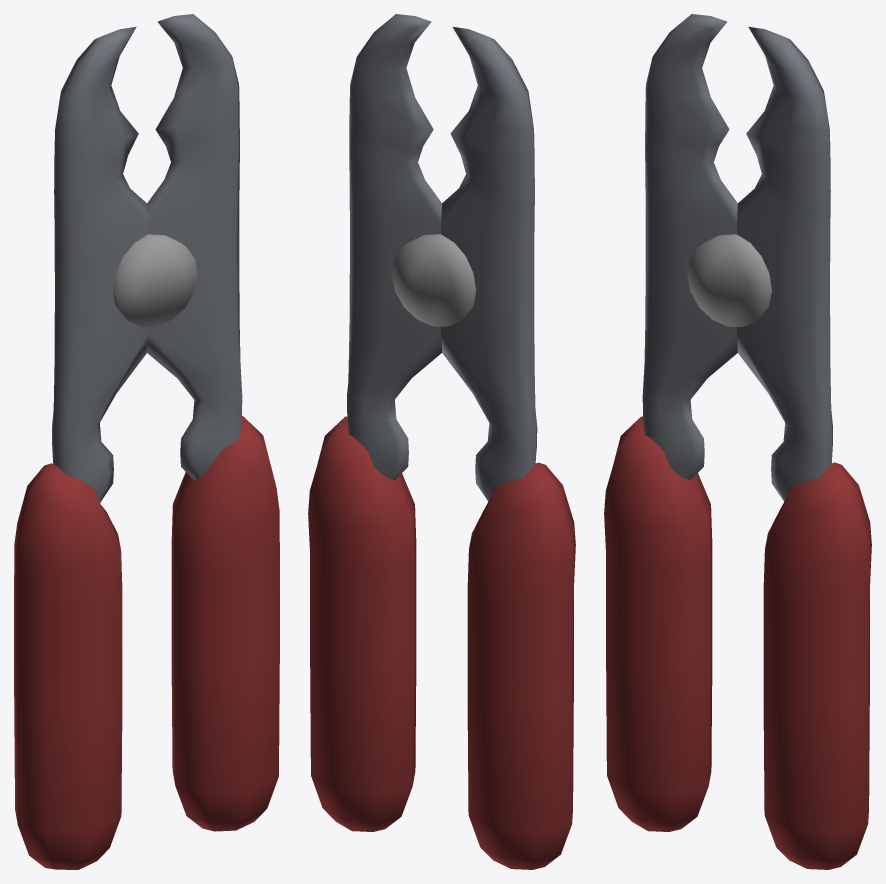
Rendered from wirecutters.glb.
3 renders of one model, left to right at view 1: azimuth 30°, elevation 25°; view 2: azimuth 150°, elevation 25°; view 3: azimuth 330°, elevation 25°, orthographic.
Parts seen in each view (by area): view 1: WirecuttersV2; view 2: WirecuttersV2; view 3: WirecuttersV2.
Boxes of the visible parts, left/top/right/bottom form: WirecuttersV2: left=14, top=14, right=279, bottom=869; WirecuttersV2: left=308, top=14, right=575, bottom=869; WirecuttersV2: left=604, top=14, right=871, bottom=869.
Bounding box in the file's own units: 0.1107 × 0.3343 × 0.0347.
1 material, 1 textured.
